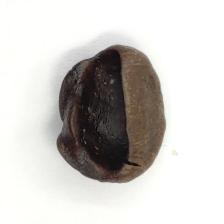NG: (76, 45, 133, 176), (53, 78, 67, 153)
